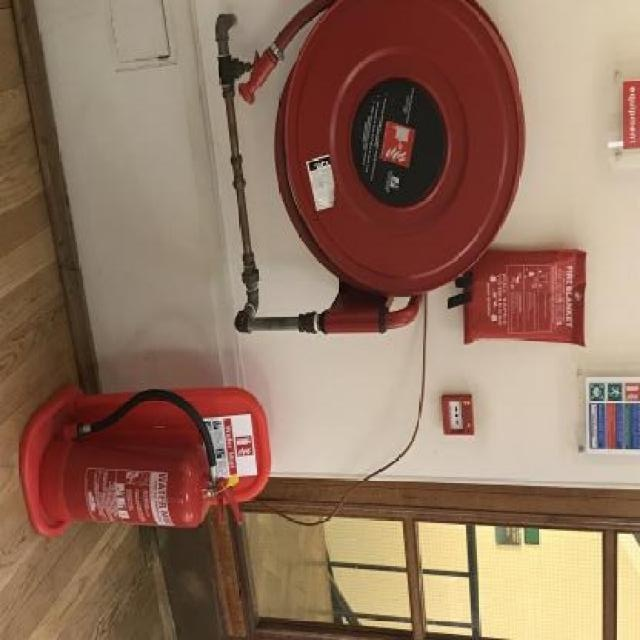fire extinguisher: (40, 390, 245, 530)
